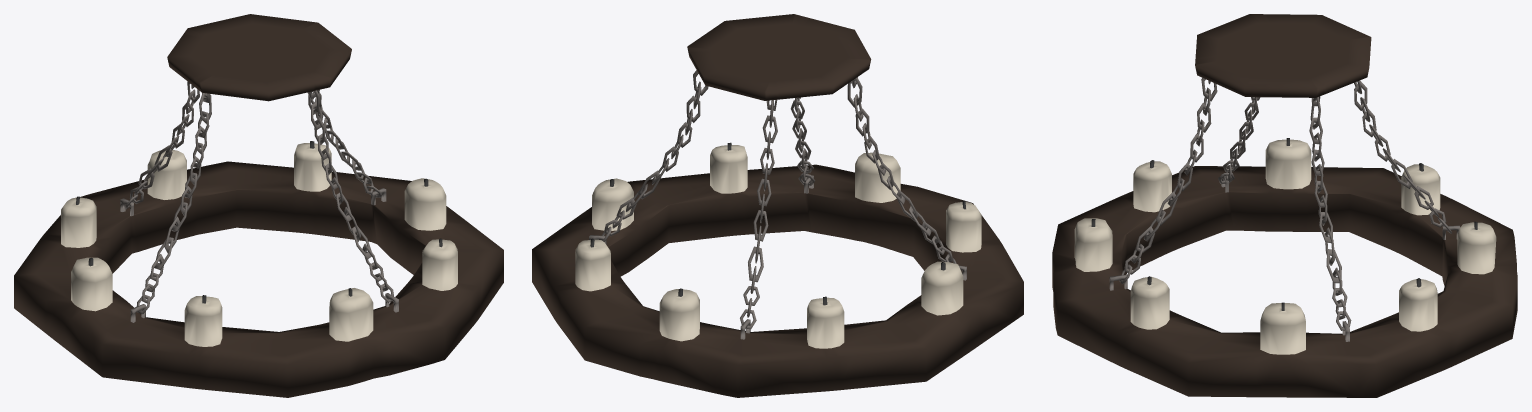
File: Chandelier.fbx
3 views of the same model, side by side, from view 1: azimuth 30°, elevation 25°; view 2: azimuth 150°, elevation 25°; view 3: azimuth 270°, elevation 25° (orthographic).
Visible parts, largest first — view 1: chandelier1; view 2: chandelier1; view 3: chandelier1.
Boxes of the visible parts, x1=… form: chandelier1: x1=14, y1=14, x2=503, y2=397; chandelier1: x1=532, y1=14, x2=1023, y2=397; chandelier1: x1=1052, y1=14, x2=1517, y2=397.
Size of the model in its own units: 1.39 by 0.816 by 1.38.
Materials: 1 (1 with a texture image).
